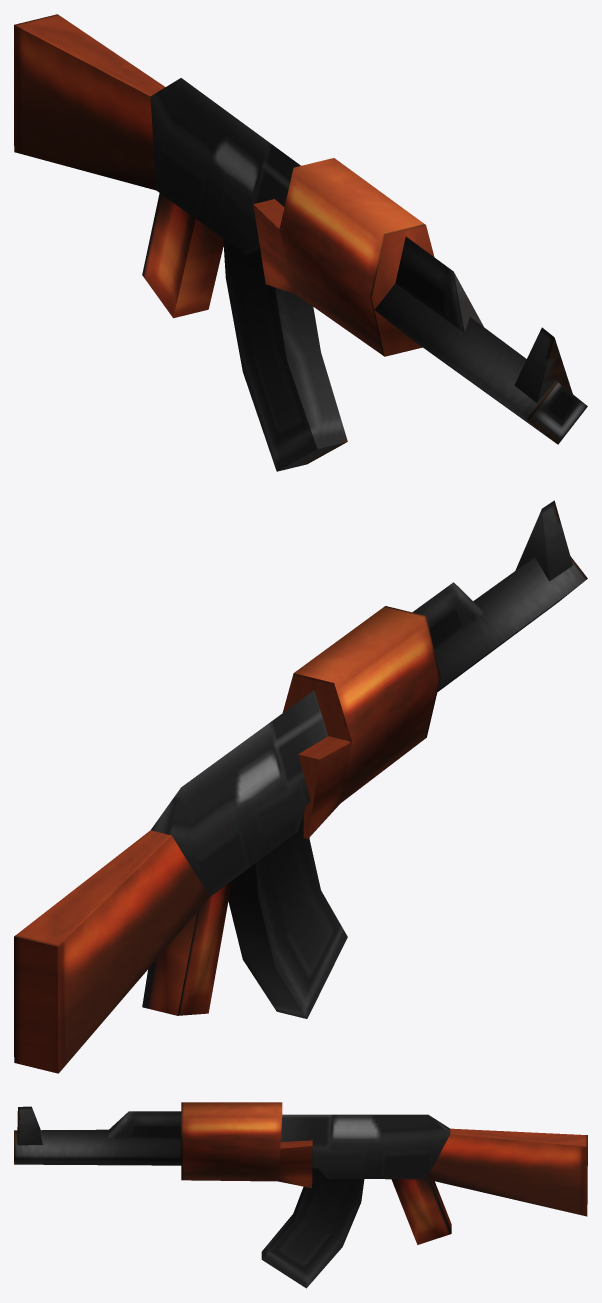
The model's file is Rifle.FBX.
3 views of the same model, one above another, from view 1: azimuth 30°, elevation 25°; view 2: azimuth 150°, elevation 25°; view 3: azimuth 270°, elevation 25° (orthographic). The views are drawn at different scales.
Visible parts, largest first — view 1: AK47; view 2: AK47; view 3: AK47.
Part boxes in pixels (<box>): AK47: <box>14,14,587,471</box>; AK47: <box>14,500,587,1073</box>; AK47: <box>14,1102,587,1288</box>.
Size of the model in its own units: 10.07 by 42.88 by 125.
